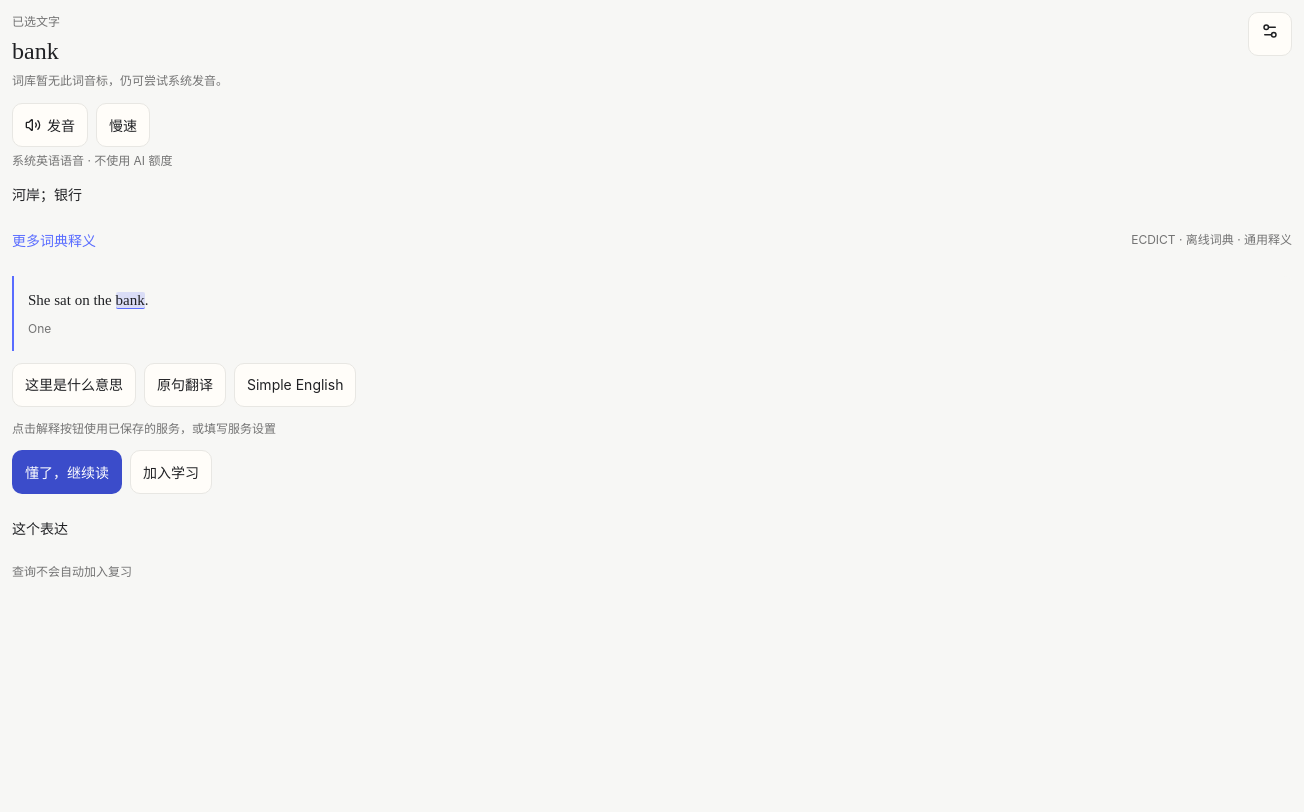
Test: an old lookup action is stale, refreshes state and never replays enrollment
Click the button "加入学习" at (171, 472), box [130,450,212,494]
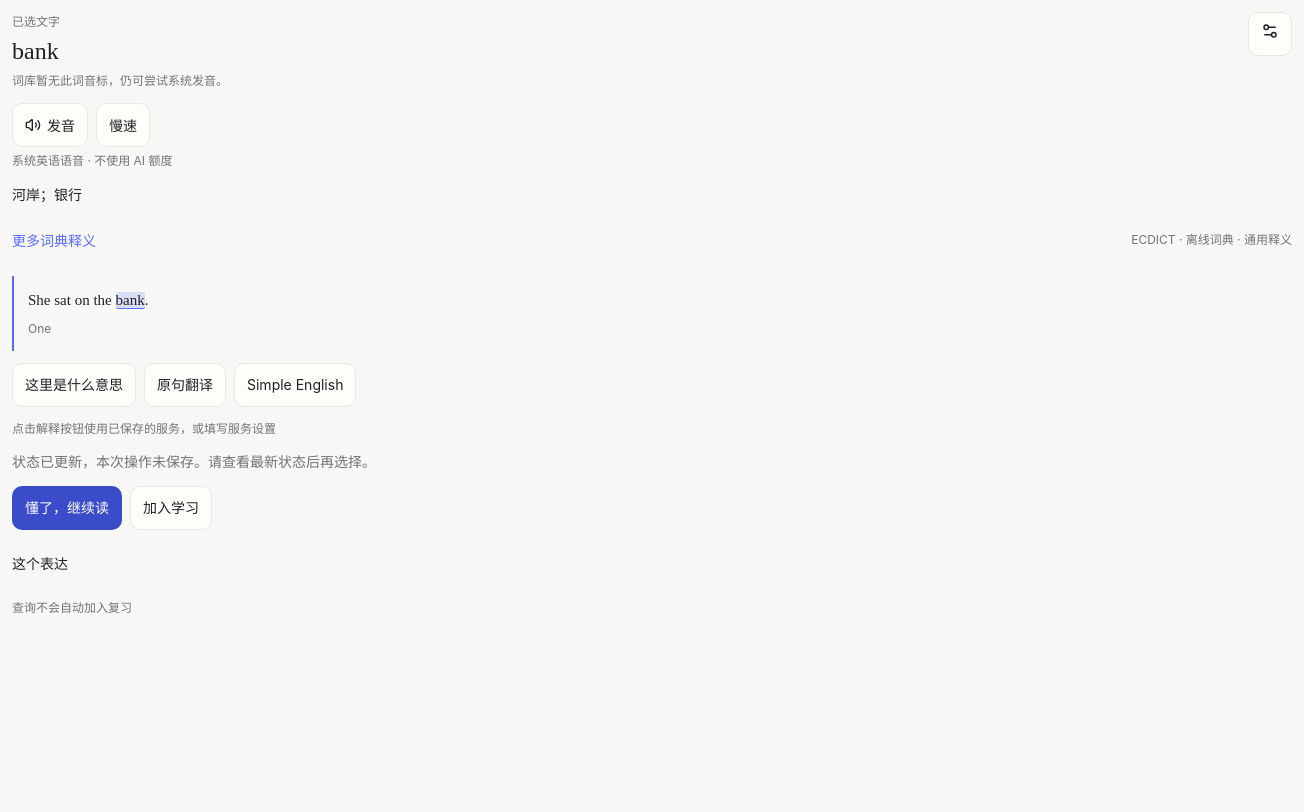
Expected: the element with class "learning-actions" shows "加入学习", [130,486,212,530]
Expected: the text "本次操作未保存" is shown, [12,453,376,470]
